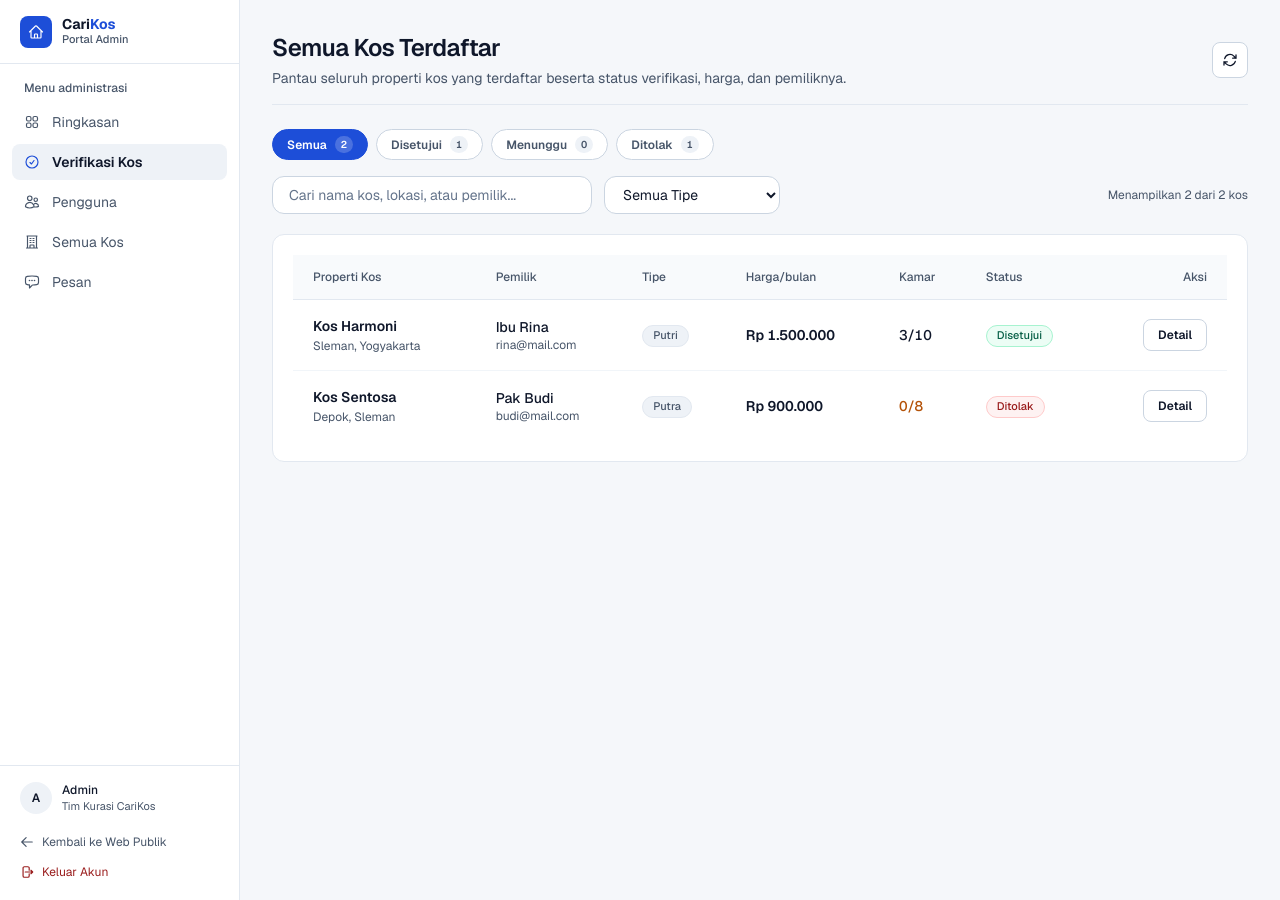
it: Owner and Admin dashboard UI & hook flows › AdminKosPage and useAdminKos list all registered kos, filter, inspect detail, and delete kos
The image size is (1280, 900).
Expected: the text "Kos Harmoni" is shown, [313,317,397,335]
Expected: the text "Kos Sentosa" is shown, [313,388,396,406]
Type "Rina" into the search field named "Cari kos terdaftar" at (432, 195), box [272,176,592,214]
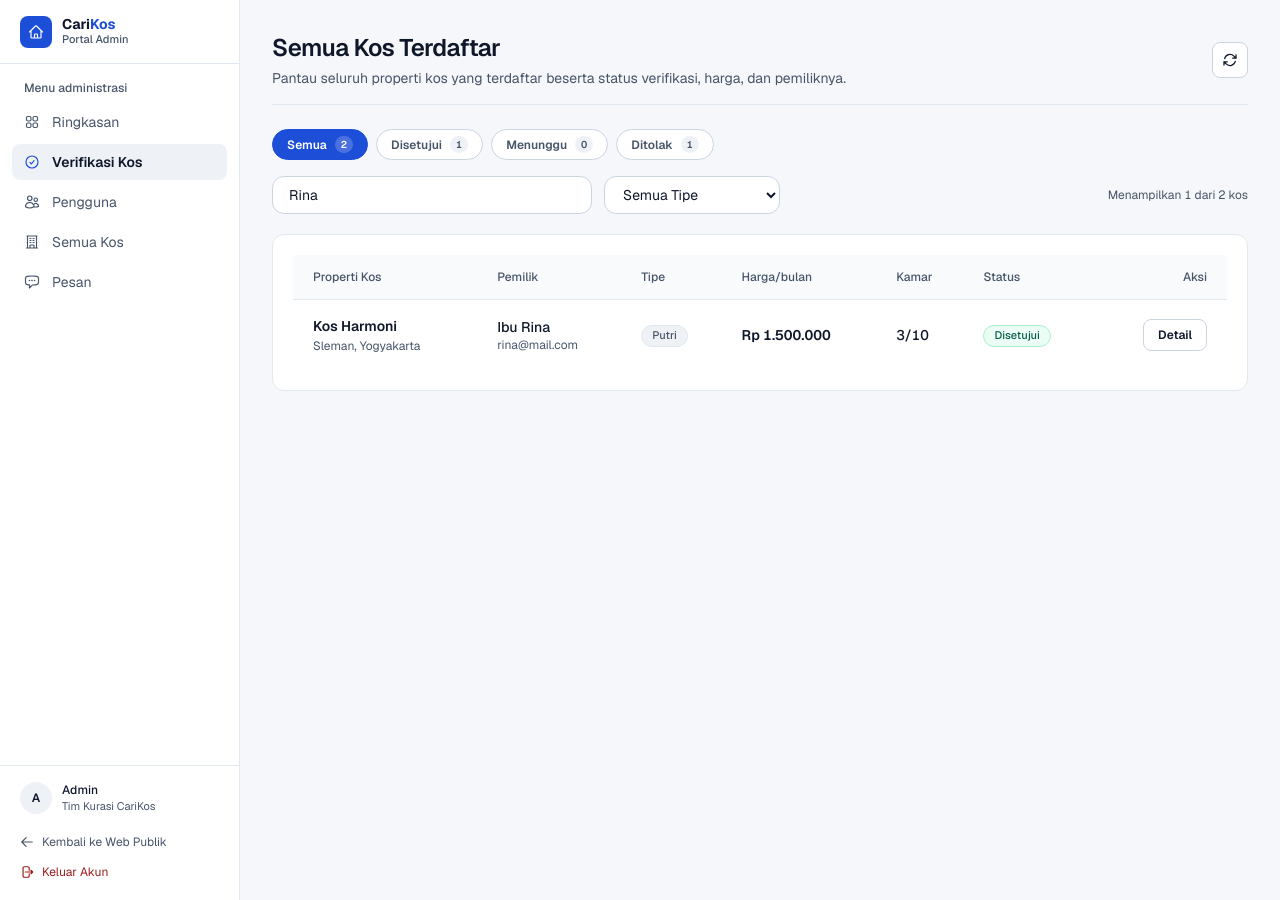
Expected: the text "Kos Harmoni" is shown, [313,317,397,335]
Now the text "Kos Sentosa" is gone
Click the button "Detail" at (1175, 335), box [1143,319,1207,351]
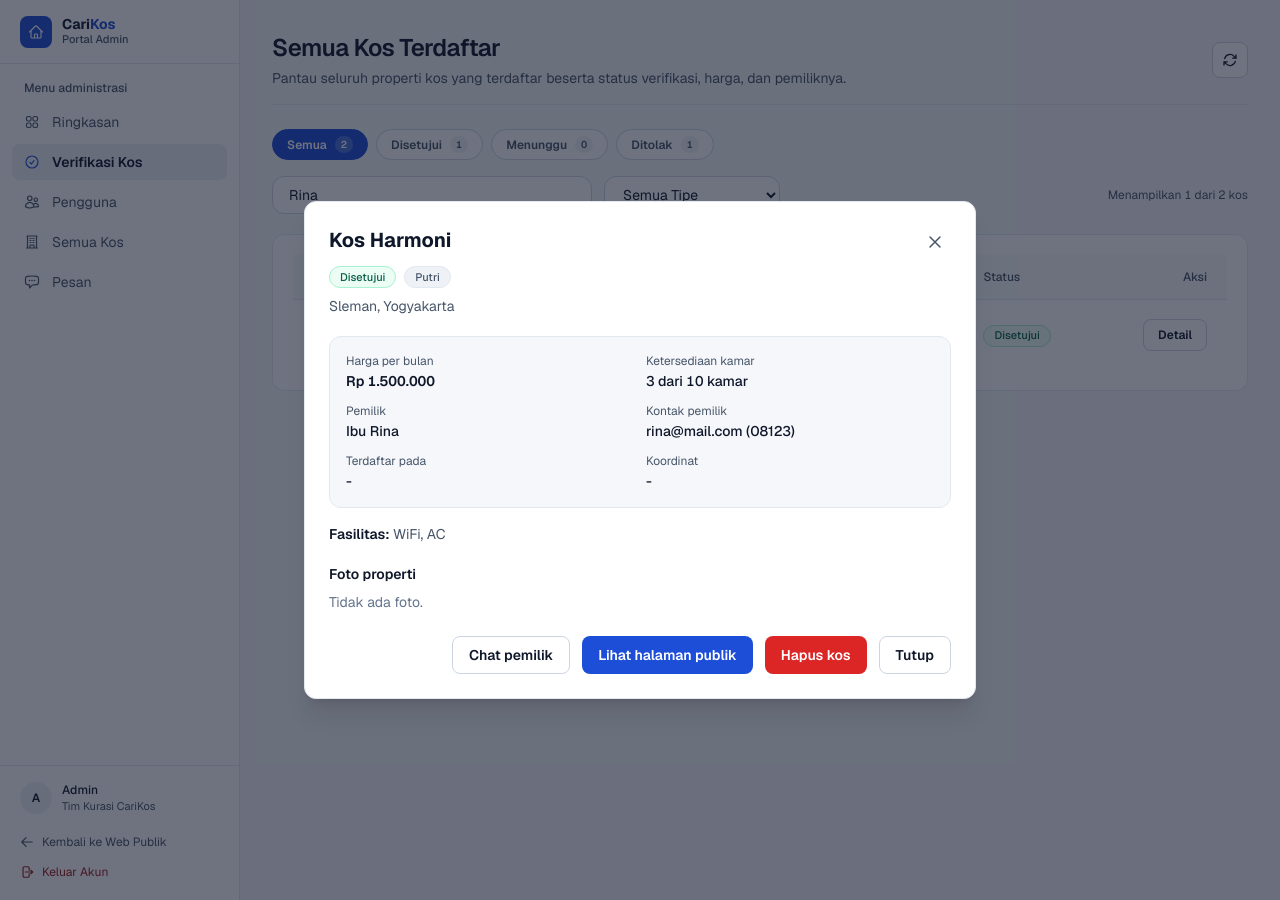
Now the dialog "Kos Harmoni" is shown, box [304,201,976,699]
